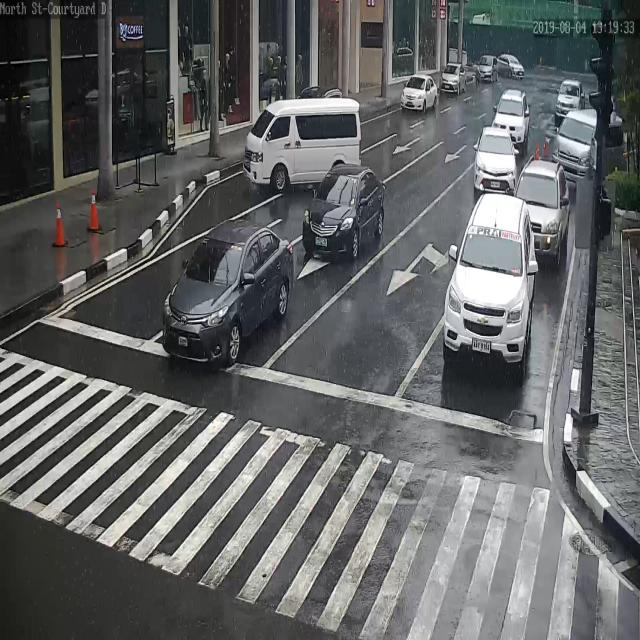car: (163, 220, 293, 362), (443, 193, 536, 376), (303, 165, 385, 264), (514, 158, 570, 264), (473, 125, 518, 195), (493, 90, 530, 148), (402, 73, 438, 114), (554, 80, 584, 123), (440, 63, 466, 93), (496, 55, 524, 79), (476, 54, 499, 82)
van: (244, 97, 362, 189), (552, 113, 625, 181)
